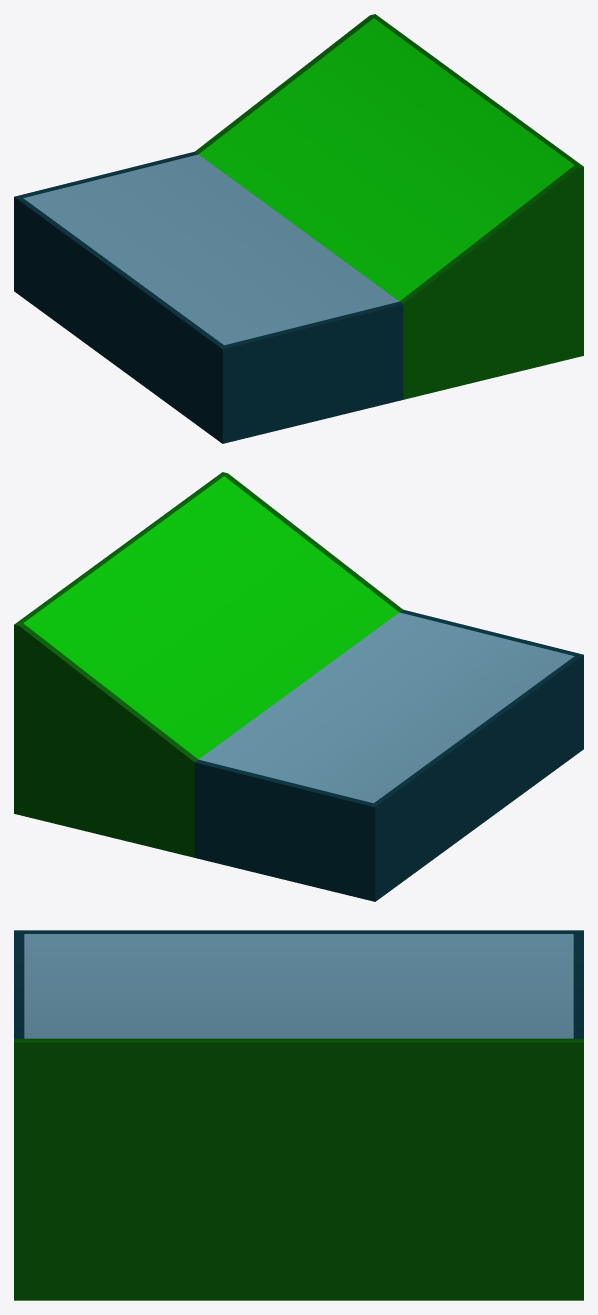
Rendered from Agua_1.fbx.
The picture shows the model from 3 angles, top to bottom: view 1: azimuth 30°, elevation 25°; view 2: azimuth 150°, elevation 25°; view 3: azimuth 270°, elevation 25°; orthographic projection. The views are drawn at different scales.
Parts seen in each view (by area): view 1: pCube2; view 2: pCube2; view 3: pCube2.
Part boxes in pixels (<box>): pCube2: <box>14,14,583,443</box>; pCube2: <box>14,472,583,901</box>; pCube2: <box>14,930,583,1300</box>.
Bounding box in the file's own units: 200 × 100 × 200.
